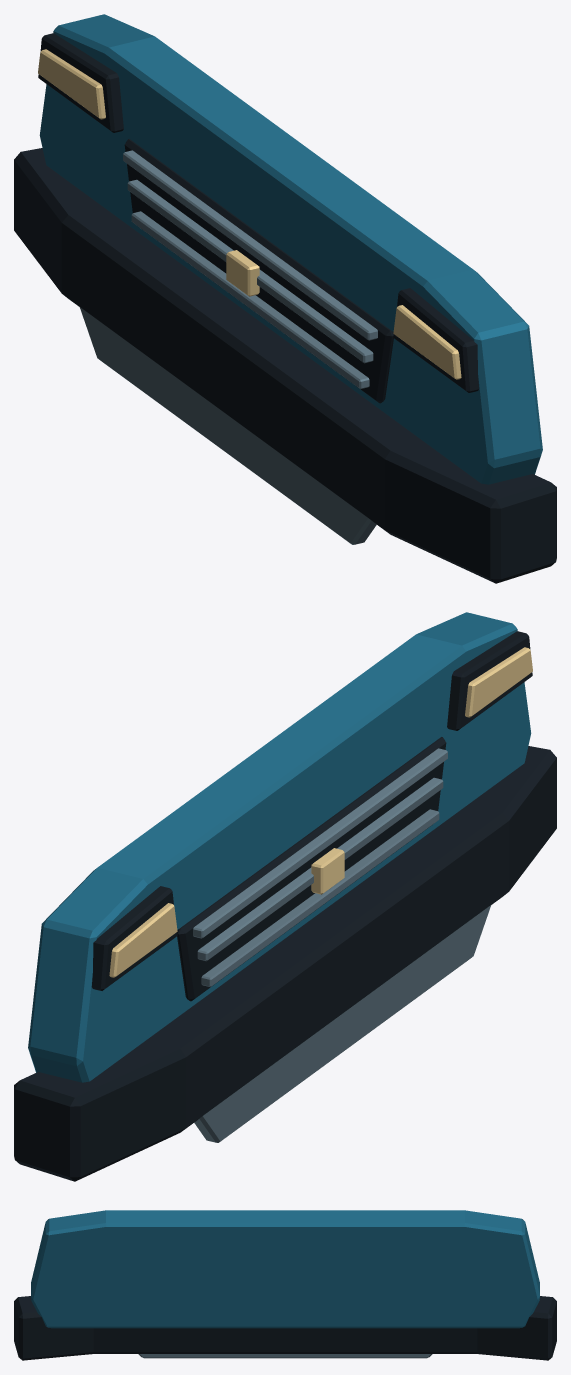
File: QC_FrontBumper.fbx
The picture shows the model from 3 angles, top to bottom: view 1: azimuth 30°, elevation 25°; view 2: azimuth 150°, elevation 25°; view 3: azimuth 270°, elevation 25°; orthographic projection. The views are drawn at different scales.
Parts seen in each view (by area): view 1: QC_FrontBumper; view 2: QC_FrontBumper; view 3: QC_FrontBumper.
Boxes of the visible parts, x1=… form: QC_FrontBumper: x1=14, y1=14, x2=556, y2=583; QC_FrontBumper: x1=14, y1=612, x2=556, y2=1181; QC_FrontBumper: x1=14, y1=1210, x2=556, y2=1360.
Size of the model in its own units: 0.223 by 0.59 by 1.85.
